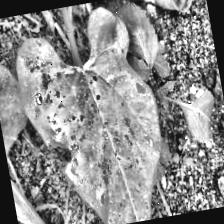ALS: (0, 9, 203, 99), (135, 122, 224, 219)
